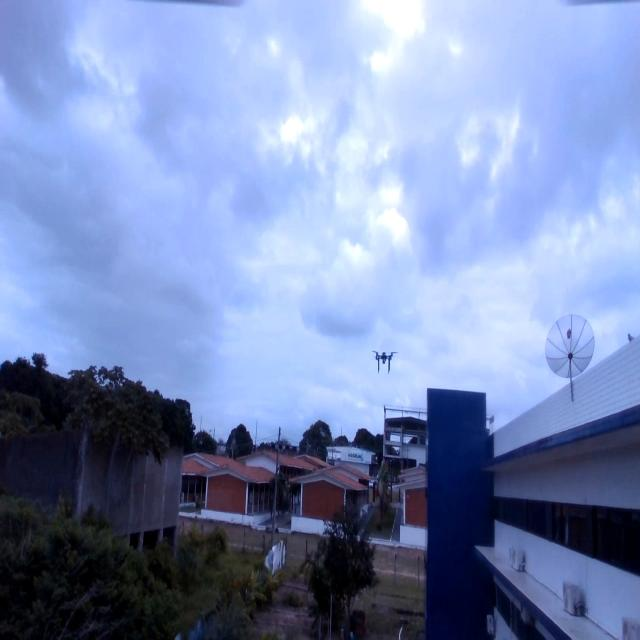-uav-: (367, 333, 402, 384)
